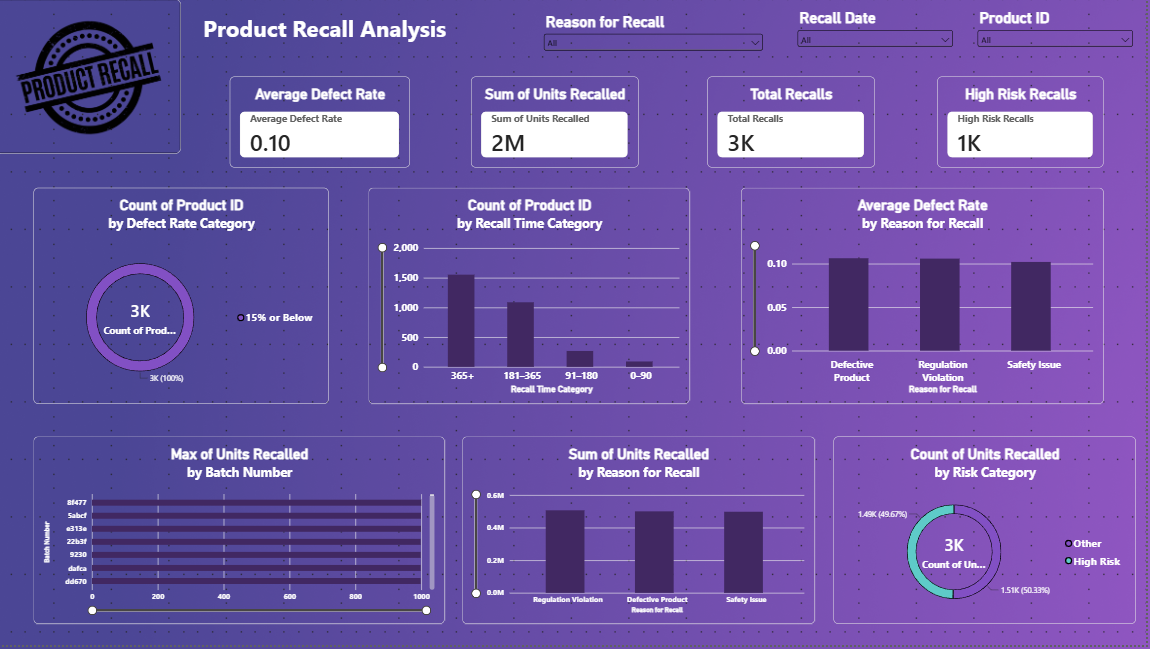

The page's visual inventory and layout, read from the dashboard file:
{"tool":"powerbi","page":{"name":"Page 1","canvas":[1920,1080],"ordinal":0},"visuals":[{"type":"cardVisual","title":"Total Recalls","fields":{"Data":["product_recall.Total Recalls"]},"box":[1187.5,129.4,279.7,152.3],"z":0},{"type":"cardVisual","title":"Sum of Units Recalled","fields":{"Data":["Sum(product_recall.Units Recalled)"]},"box":[793,129.4,279.7,152.3],"z":1000},{"type":"cardVisual","title":"Average Defect Rate","fields":{"Data":["product_recall.Average Defect Rate"]},"box":[390.3,129.4,300.5,152.3],"z":2000},{"type":"cardVisual","title":"High Risk Recalls","fields":{"Data":["product_recall.High Risk Recalls"]},"box":[1571.5,129.4,277.6,152.3],"z":3000},{"type":"slicer","fields":{"Values":["product_recall.Recall Date"]},"box":[1191.7,14.6,269.2,98.1],"z":4000},{"type":"slicer","fields":{"Values":["product_recall.Product ID"]},"box":[1546.4,16.7,269.2,96],"z":5000},{"type":"donutChart","fields":{"Category":["product_recall.Defect Rate Category"],"Y":["CountNonNull(product_recall.Product ID)"]},"box":[62.6,315.1,492.5,361],"z":6000},{"type":"clusteredColumnChart","fields":{"Category":["product_recall.Reason for Recall"],"Y":["product_recall.Average Defect Rate"]},"box":[1243.8,315.1,605.2,361],"z":7000},{"type":"donutChart","fields":{"Category":["product_recall.Risk Category"],"Y":["CountNonNull(product_recall.Units Recalled)"]},"box":[1398.3,730.4,505,313],"z":8000},{"type":"clusteredColumnChart","fields":{"Category":["product_recall.Reason for Recall"],"Y":["Sum(product_recall.Units Recalled)"]},"box":[778.4,730.4,588.5,313],"z":9000},{"type":"clusteredColumnChart","fields":{"Category":["product_recall.Recall Time Category"],"Y":["CountNonNull(product_recall.Product ID)"]},"box":[621.9,315.1,536.3,361],"z":10000},{"type":"barChart","fields":{"Category":["product_recall.Batch Number"],"Y":["Max(product_recall.Units Recalled)"]},"box":[62.6,730.4,686.6,313],"z":11000},{"type":"image","box":[0,0,308.9,258.8],"z":12000},{"type":"slicer","fields":{"Values":["product_recall.Reason for Recall"]},"box":[730.4,16.7,375.7,81.4],"z":13000}]}

Visuals, with their boxes in screenshot pixels (x1, y1, x2, y2), scaled from the page's 1920x1080 canvas onto the 1150x649 screenshot:
"Total Recalls" cardVisual: bbox=[711, 78, 879, 169]
"Sum of Units Recalled" cardVisual: bbox=[475, 78, 643, 169]
"Average Defect Rate" cardVisual: bbox=[234, 78, 414, 169]
"High Risk Recalls" cardVisual: bbox=[941, 78, 1108, 169]
slicer - product_recall.Recall Date: bbox=[714, 9, 875, 68]
slicer - product_recall.Product ID: bbox=[926, 10, 1087, 68]
donutChart - product_recall.Defect Rate Category x CountNonNull(product_recall.Product ID): bbox=[37, 189, 332, 406]
clusteredColumnChart - product_recall.Reason for Recall x product_recall.Average Defect Rate: bbox=[745, 189, 1107, 406]
donutChart - product_recall.Risk Category x CountNonNull(product_recall.Units Recalled): bbox=[838, 439, 1140, 627]
clusteredColumnChart - product_recall.Reason for Recall x Sum(product_recall.Units Recalled): bbox=[466, 439, 819, 627]
clusteredColumnChart - product_recall.Recall Time Category x CountNonNull(product_recall.Product ID): bbox=[372, 189, 694, 406]
barChart - product_recall.Batch Number x Max(product_recall.Units Recalled): bbox=[37, 439, 449, 627]
image: bbox=[0, 0, 185, 156]
slicer - product_recall.Reason for Recall: bbox=[437, 10, 663, 59]
